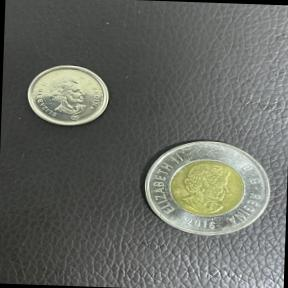coin: (132, 129, 280, 247), (20, 61, 115, 132)
